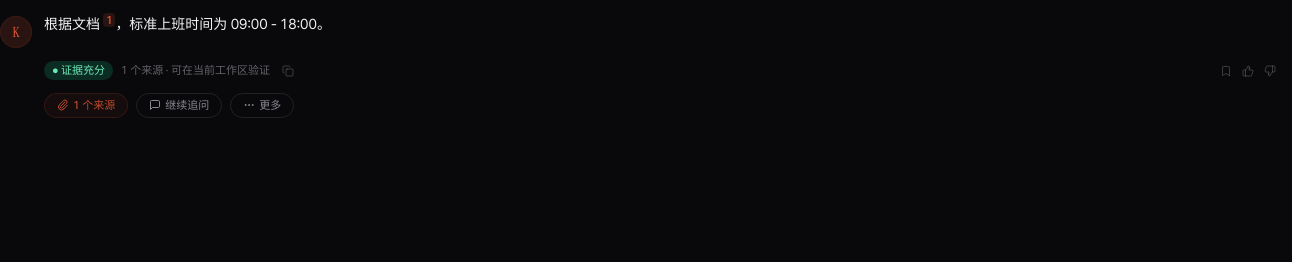
MessageBubble › reveals secondary actions only after opening the more-actions menu and closes on escape
Step 1. Click the button with aria-label "更多操作" → point(262, 105), box [230,92,294,118]
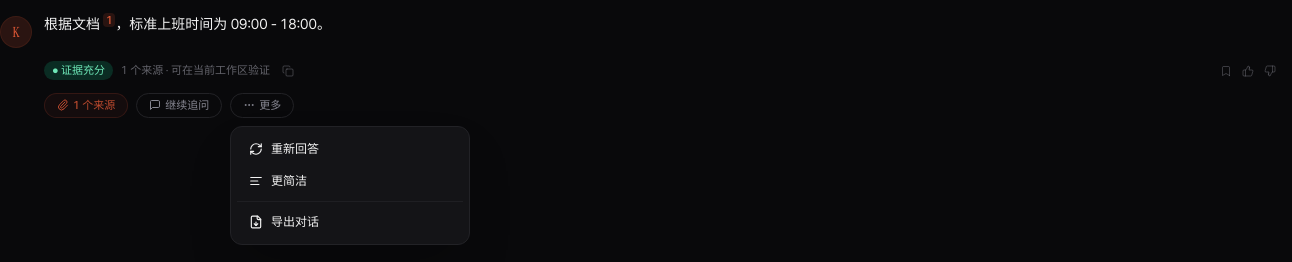
Result: the menu item "重新回答" is shown at [249,141,319,156]
Result: the menu item "更简洁" is shown at [249,173,307,188]
Result: the menu item "导出对话" is shown at [249,214,319,229]
Step 2. Press Escape
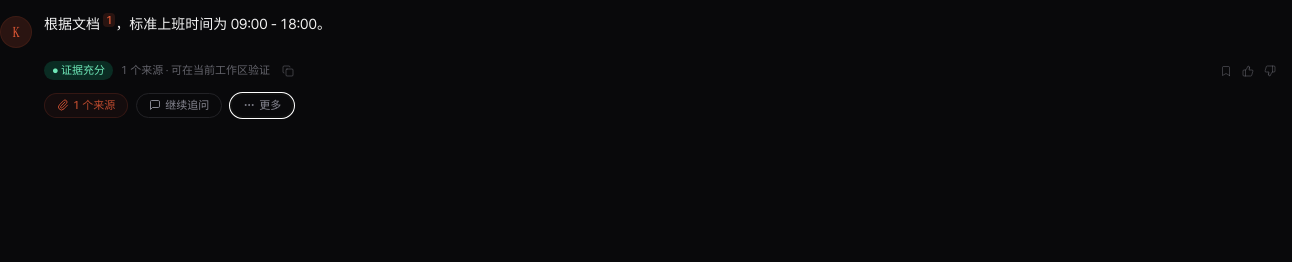
Result: the menu item "重新回答" is gone
